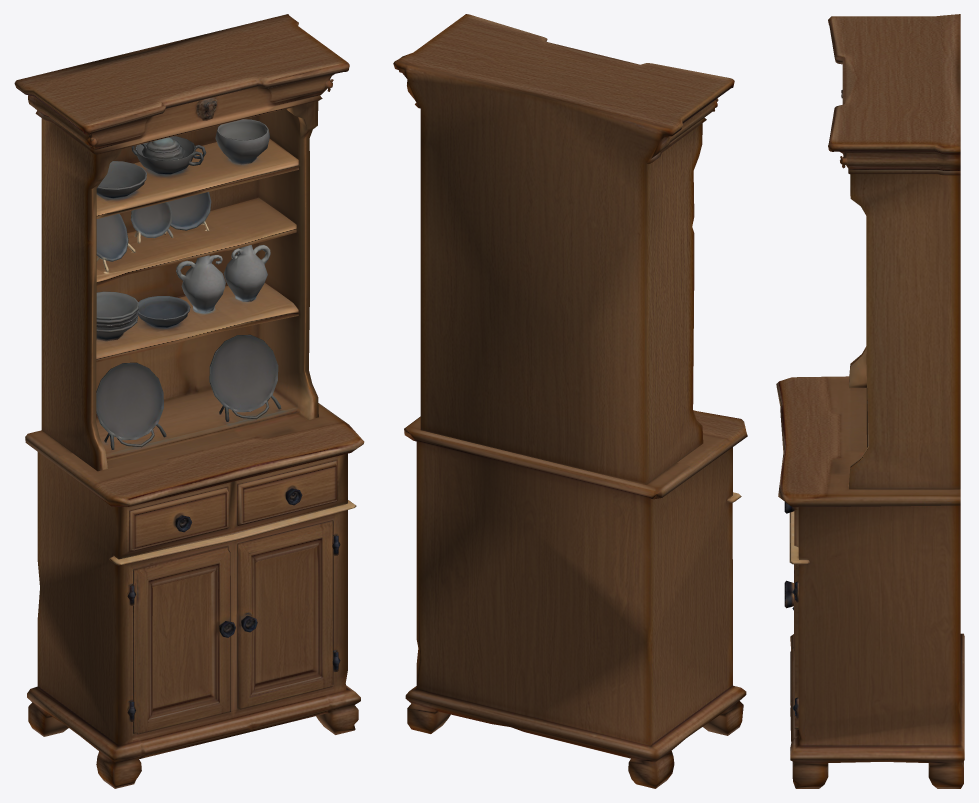
Rendered from credenza.fbx.
3 views of the same model, side by side, from view 1: azimuth 30°, elevation 25°; view 2: azimuth 150°, elevation 25°; view 3: azimuth 270°, elevation 25° (orthographic). The views are drawn at different scales.
Parts seen in each view (by area): view 1: tripo_node_68c7ab74; view 2: tripo_node_68c7ab74; view 3: tripo_node_68c7ab74.
Boxes of the visible parts, x1=… form: tripo_node_68c7ab74: x1=14, y1=14, x2=364, y2=788; tripo_node_68c7ab74: x1=393, y1=14, x2=747, y2=788; tripo_node_68c7ab74: x1=776, y1=14, x2=964, y2=788.
Size of the model in its own units: 0.4419 by 0.9995 by 0.2622.
Materials: 1 (1 with a texture image).
